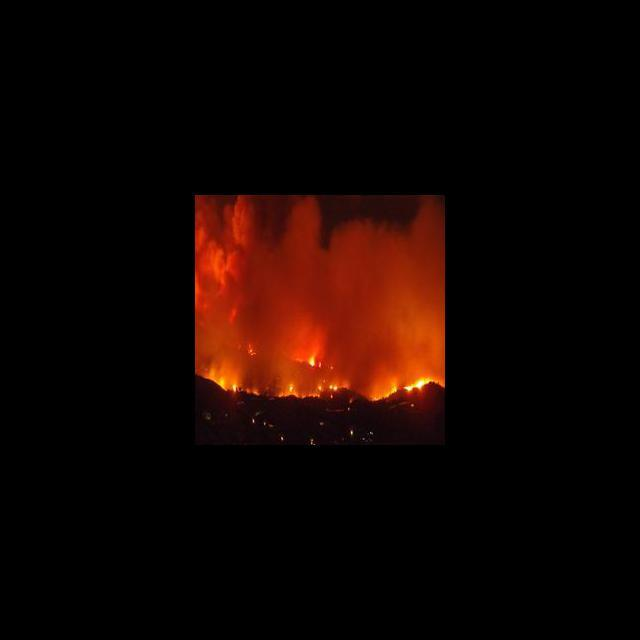Fire: (372, 375, 433, 401), (208, 367, 226, 388), (316, 382, 339, 391), (305, 352, 317, 368), (286, 383, 296, 392), (230, 383, 238, 393)
